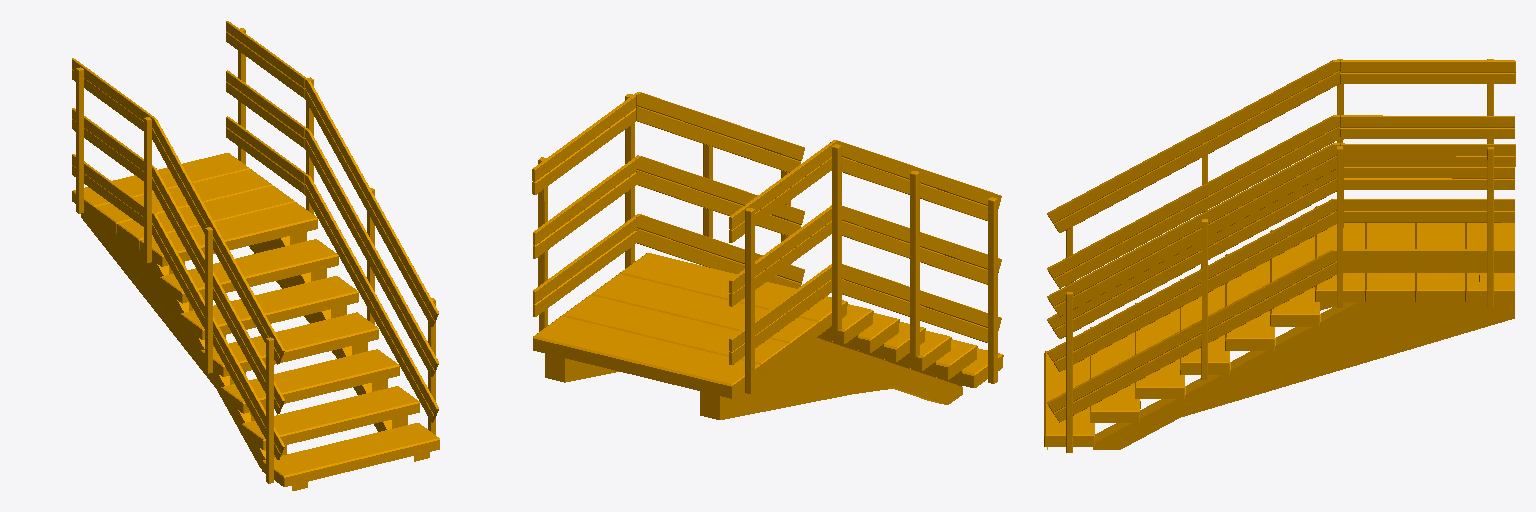
robot.urdf — none:
<robot name="none">
       <link name="none">
           <visual>
               <origin rpy="1.57 0 0" xyz="0 0 0" />
               <geometry>
                   <mesh filename="outdoor_staircase.obj" />
               </geometry>
           </visual>
          <collision>
              <geometry>
                  <box size="0.453901 0.728723 1.000000" />
              </geometry>
          </collision>

          <inertial>
            <mass value="0.0" />
            <inertia ixx="0.0" ixy="0.0" ixz="0.0" iyy="0.0" iyz="0.0" izz="0.0" />
          </inertial>
      </link>
  </robot>

--- Render facts (derived) ---
The picture shows the robot from 3 angles, left to right: view 1: azimuth 30°, elevation 25°; view 2: azimuth 150°, elevation 25°; view 3: azimuth 270°, elevation 25°; orthographic projection.
Model none with 1 links and 0 joints (none), rooted at none, posed all joints at 0.
Links seen in each view (by area): view 1: none; view 2: none; view 3: none.
Boxes of the visible links, left/top/right/bottom form: none: left=72, top=21, right=439, bottom=490; none: left=532, top=92, right=1003, bottom=419; none: left=1044, top=59, right=1515, bottom=452.
Size in the robot's own frame: 0.4539 by 1 by 0.7284 metres.
Meshes: 1 distinct files referenced, 1 mesh visuals loaded (1 OBJ).